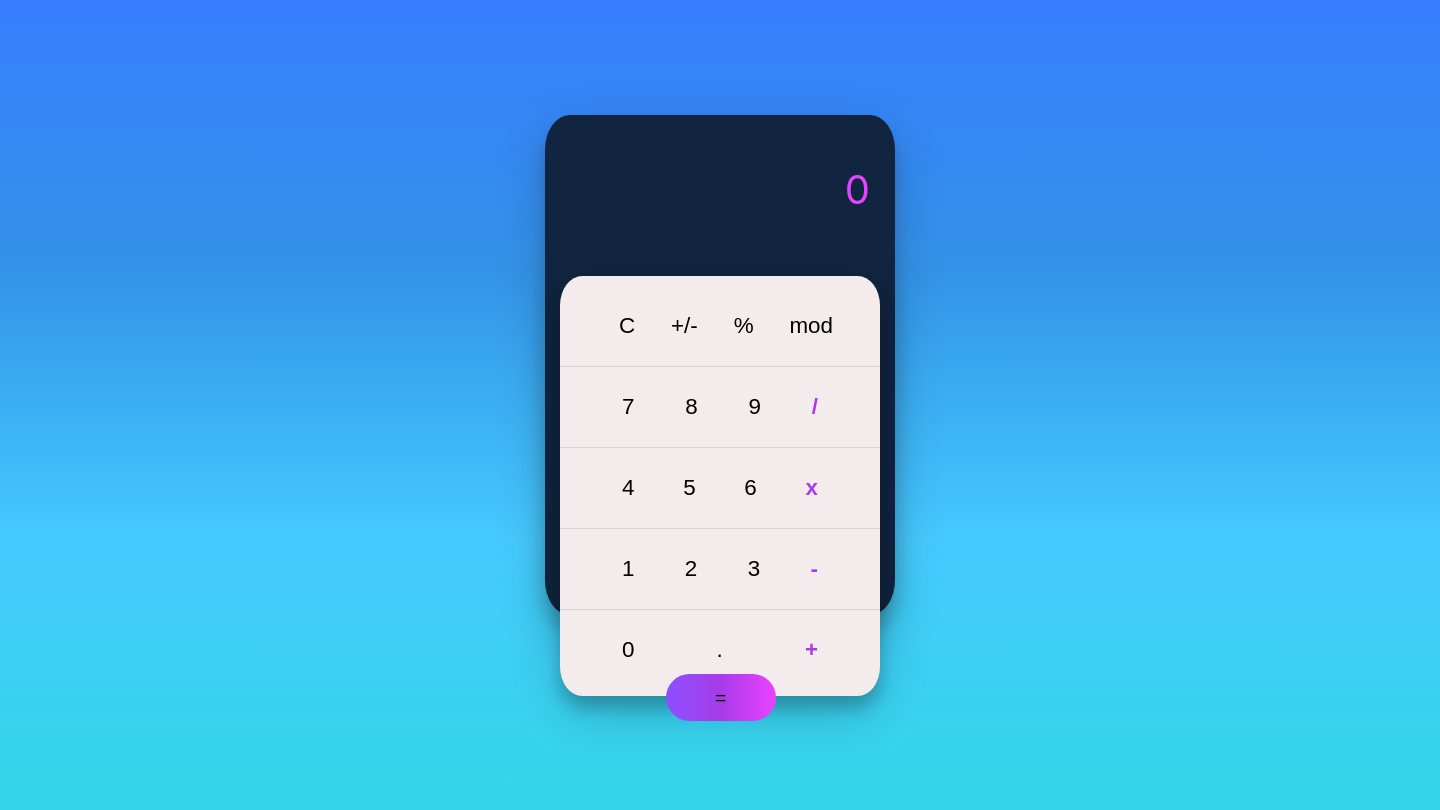
it: adds two negative values
Click the button "8": (692, 407) [679,393,704,421]
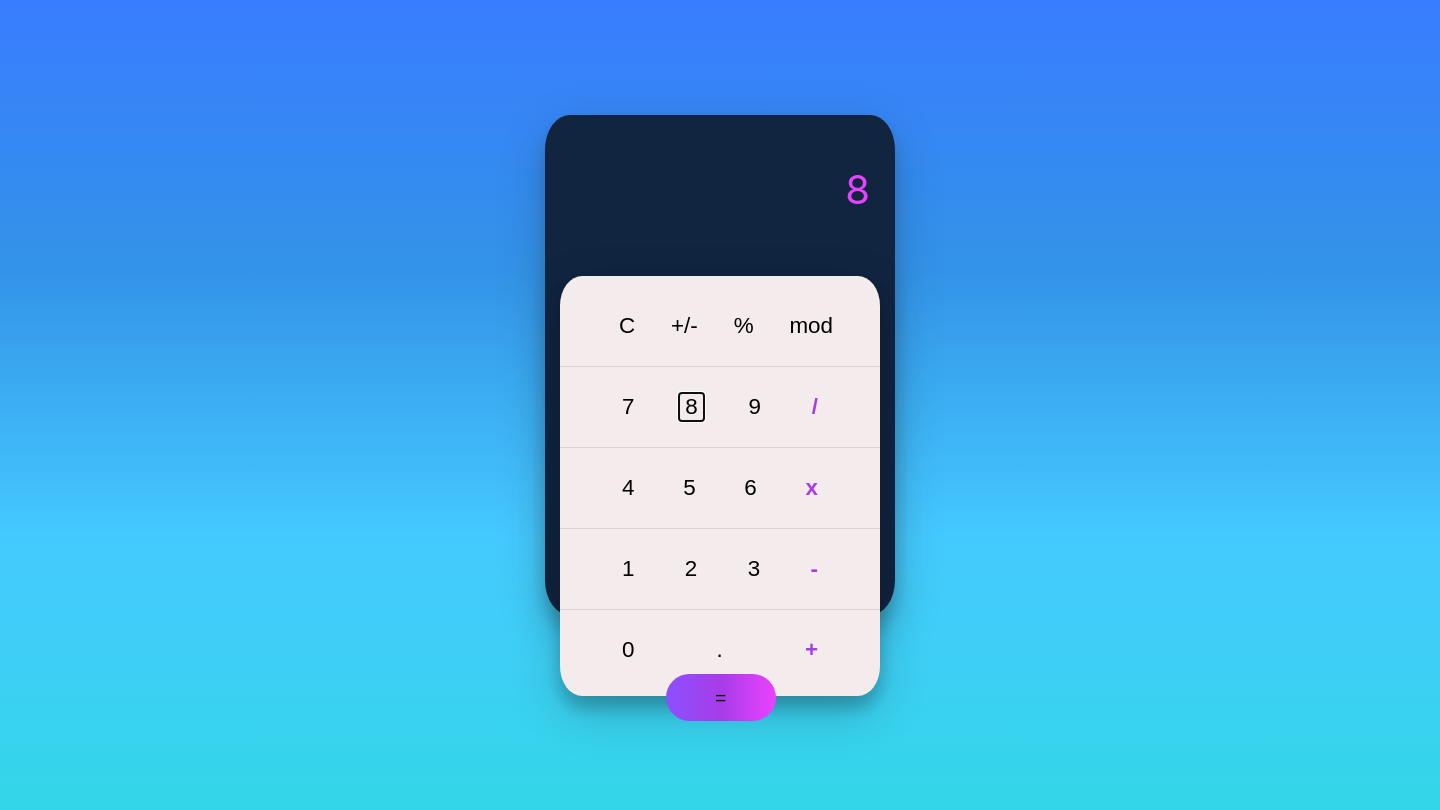
Click the button "+/-": (684, 326) [665,312,704,340]
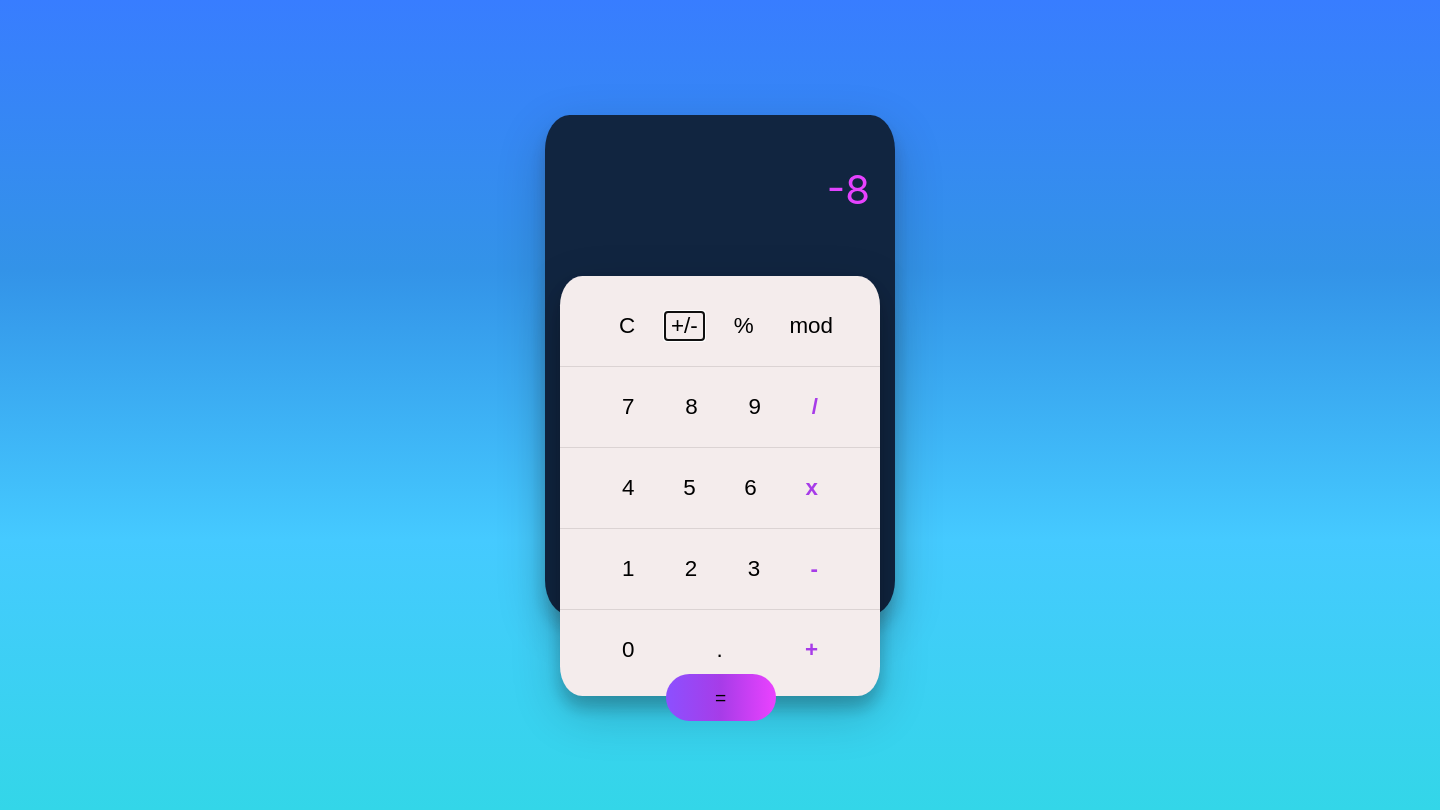
Click the button "+": (811, 650) [799,636,824,664]
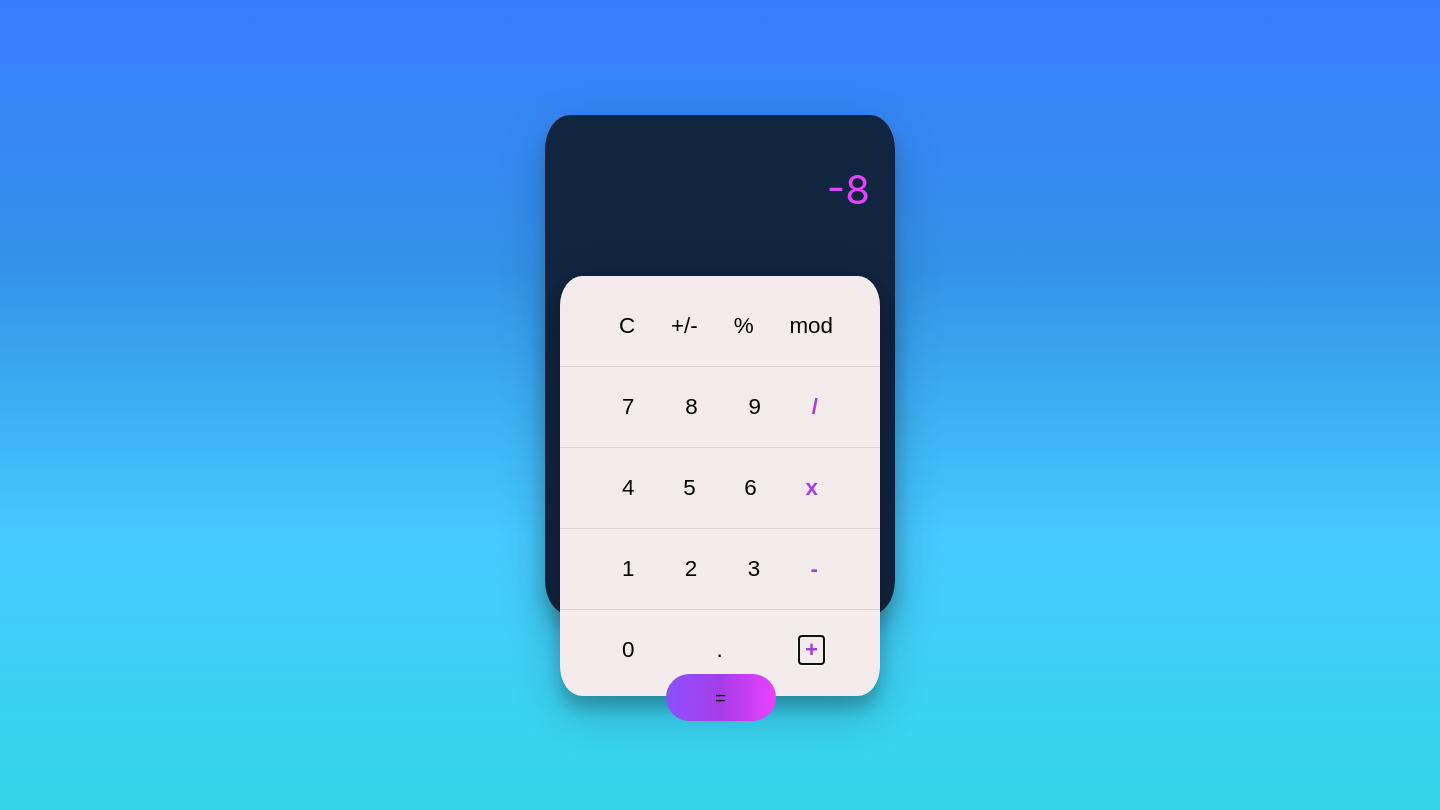
Click the button "9": (755, 407) [742,393,767,421]
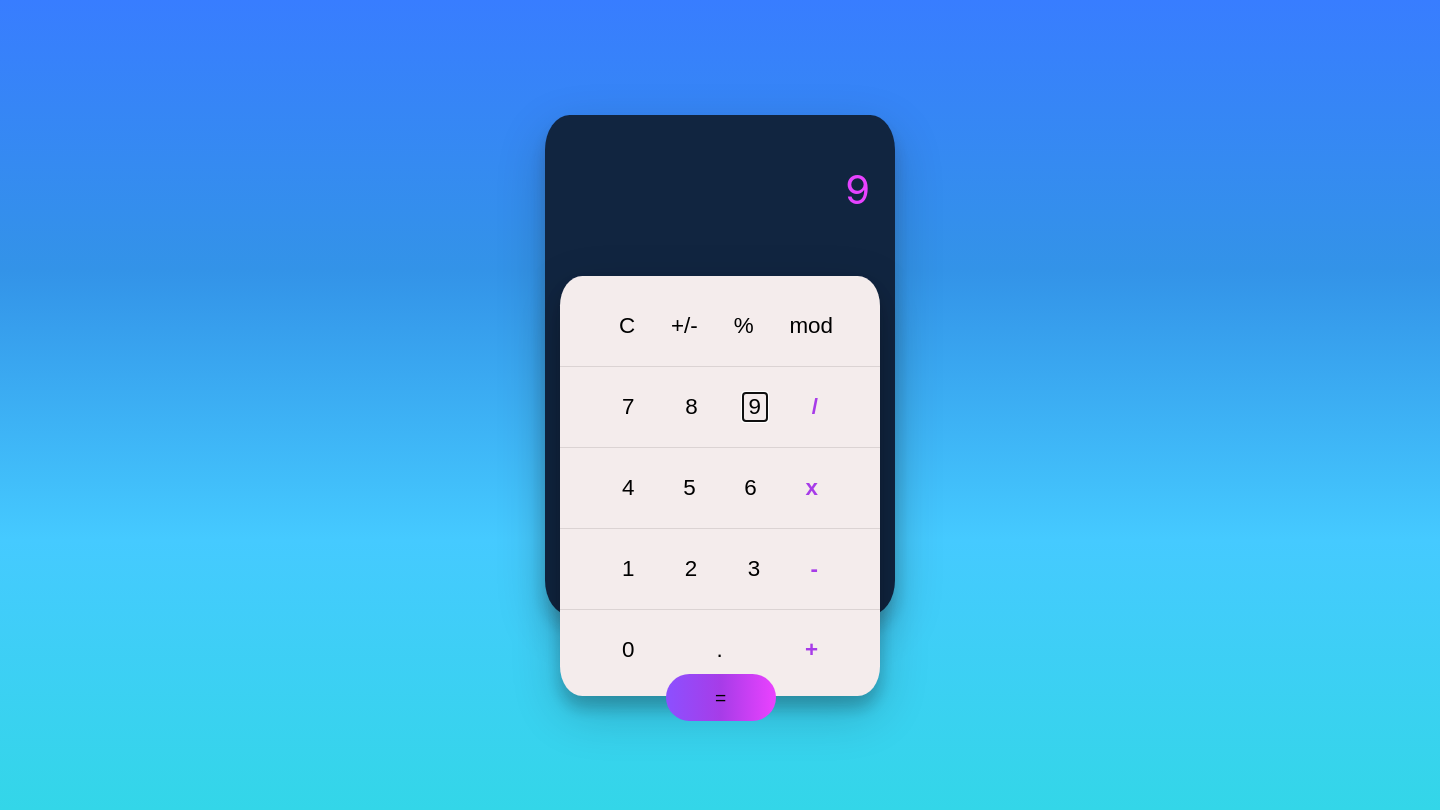
Click the button "+/-": (684, 326) [665,312,704,340]
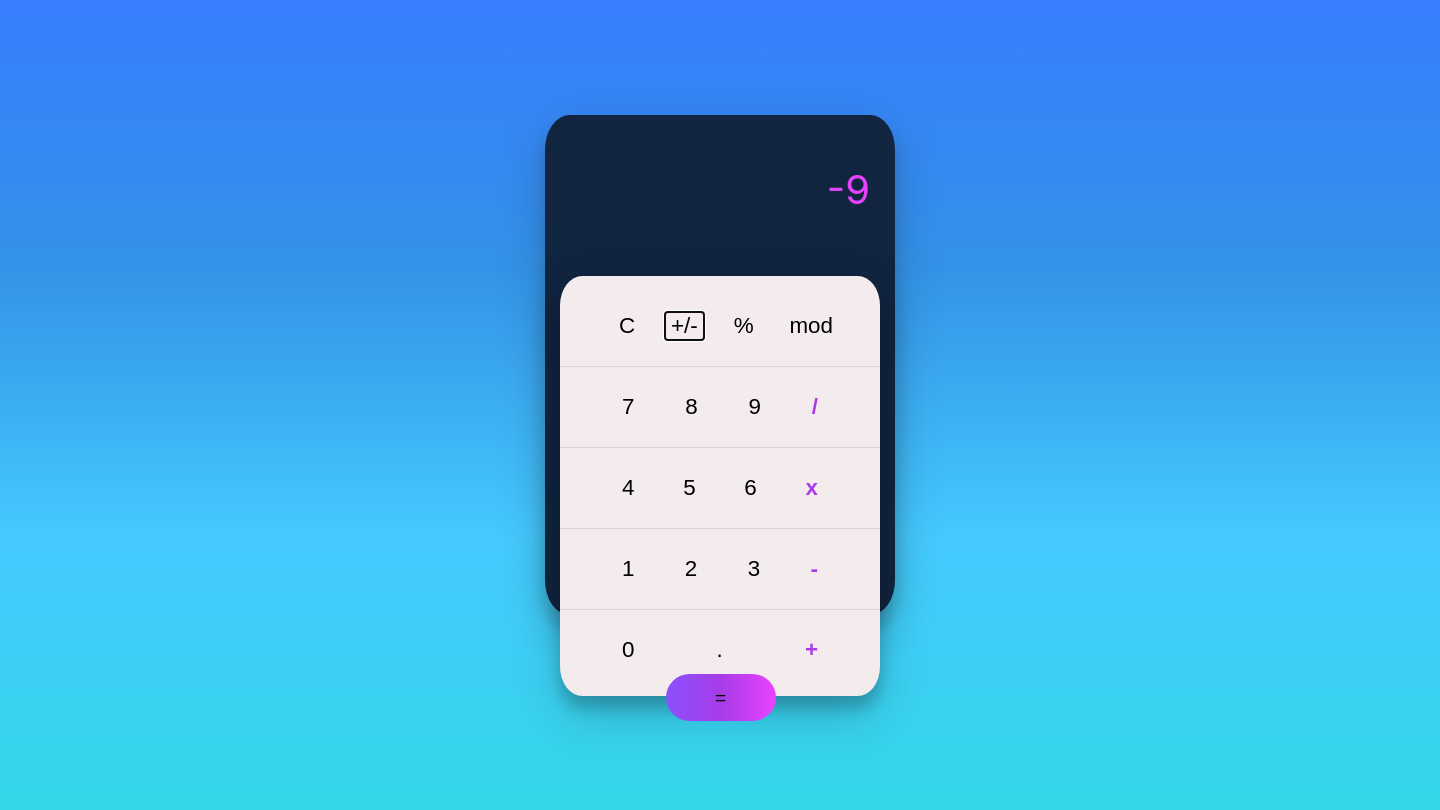
Click the button "=": (721, 698) [666,674,776,721]
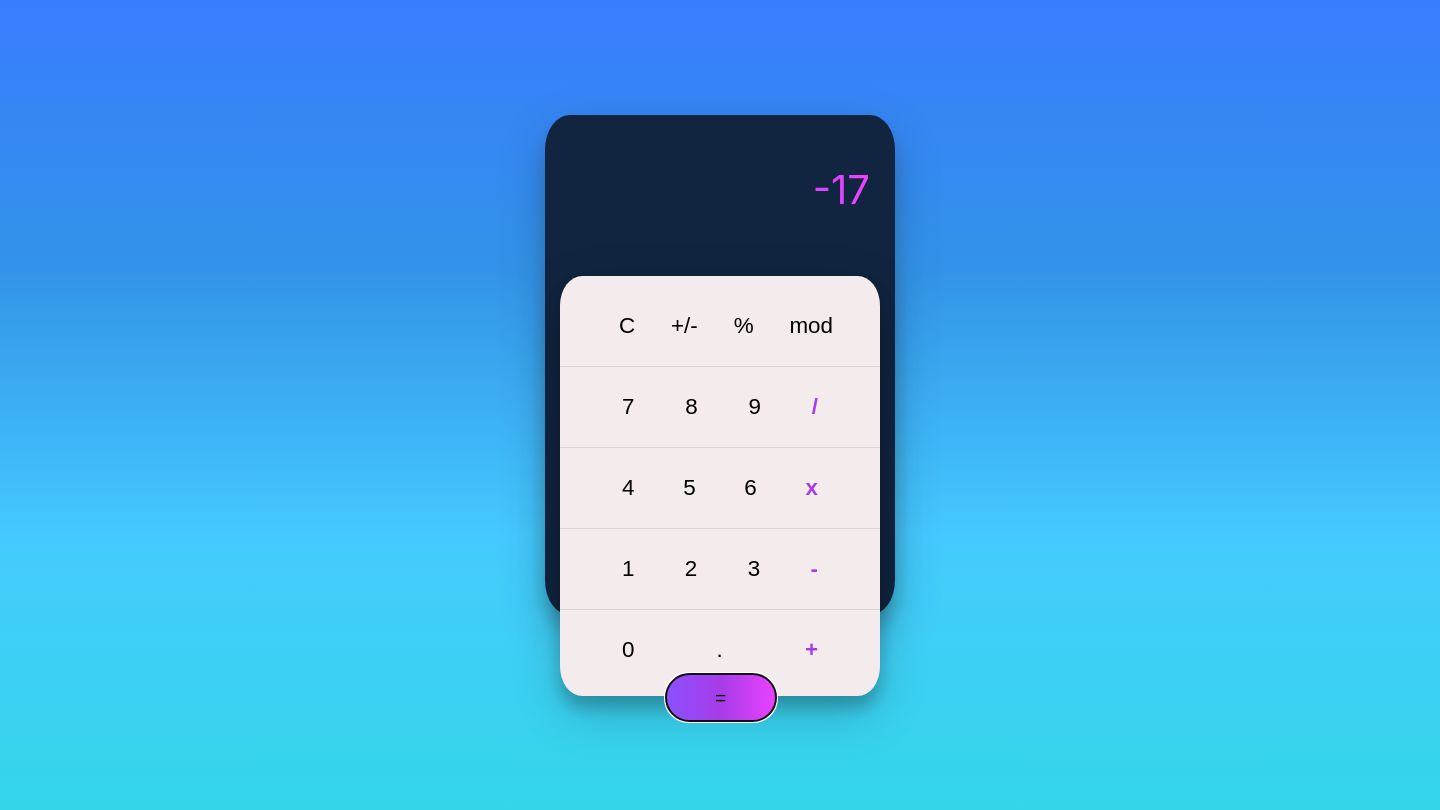
Expected: the label with test id "resultCalculation" reads "-17", [813,164,870,214]
